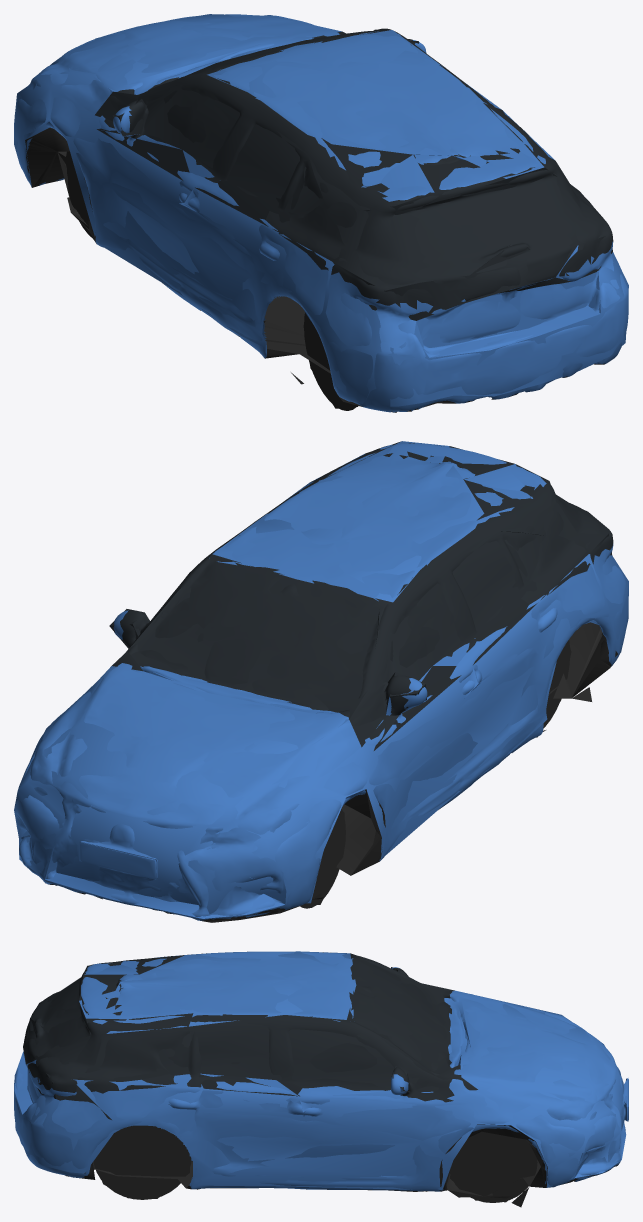
File: lexus-ct.glb
3 views of the same model, one above another, from view 1: azimuth 30°, elevation 25°; view 2: azimuth 150°, elevation 25°; view 3: azimuth 270°, elevation 25° (orthographic). The views are drawn at different scales.
Visible parts, largest first — view 1: body, far; view 2: body, far; view 3: body, far.
Part boxes in pixels (bbox=[...]): body: bbox=[14, 14, 628, 412]; far: bbox=[14, 14, 628, 408]; body: bbox=[15, 443, 628, 922]; far: bbox=[14, 441, 628, 918]; body: bbox=[14, 951, 628, 1207]; far: bbox=[14, 951, 628, 1202].
Size of the model in its own units: 1.96 by 1.46 by 4.41.
